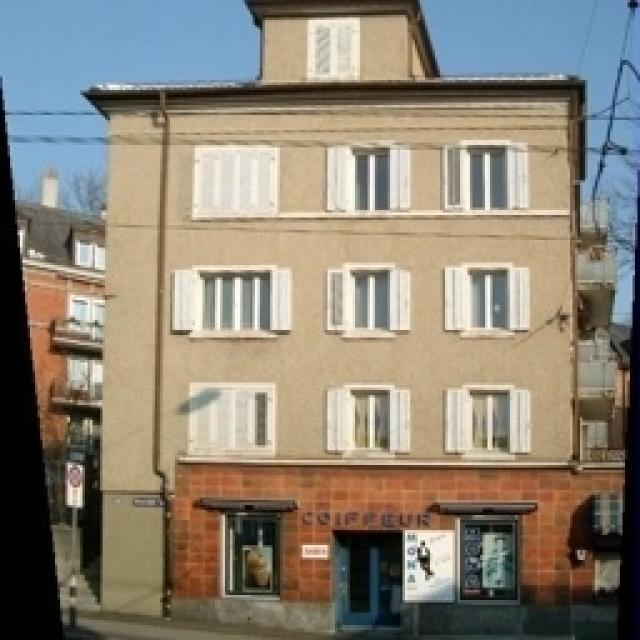Window: (190, 385, 272, 450), (197, 150, 275, 215), (460, 520, 518, 600), (225, 515, 278, 593), (200, 272, 270, 328), (310, 22, 360, 80), (464, 147, 508, 210), (470, 392, 510, 450), (470, 272, 508, 328), (352, 392, 388, 448), (352, 274, 388, 328), (358, 152, 390, 210)
